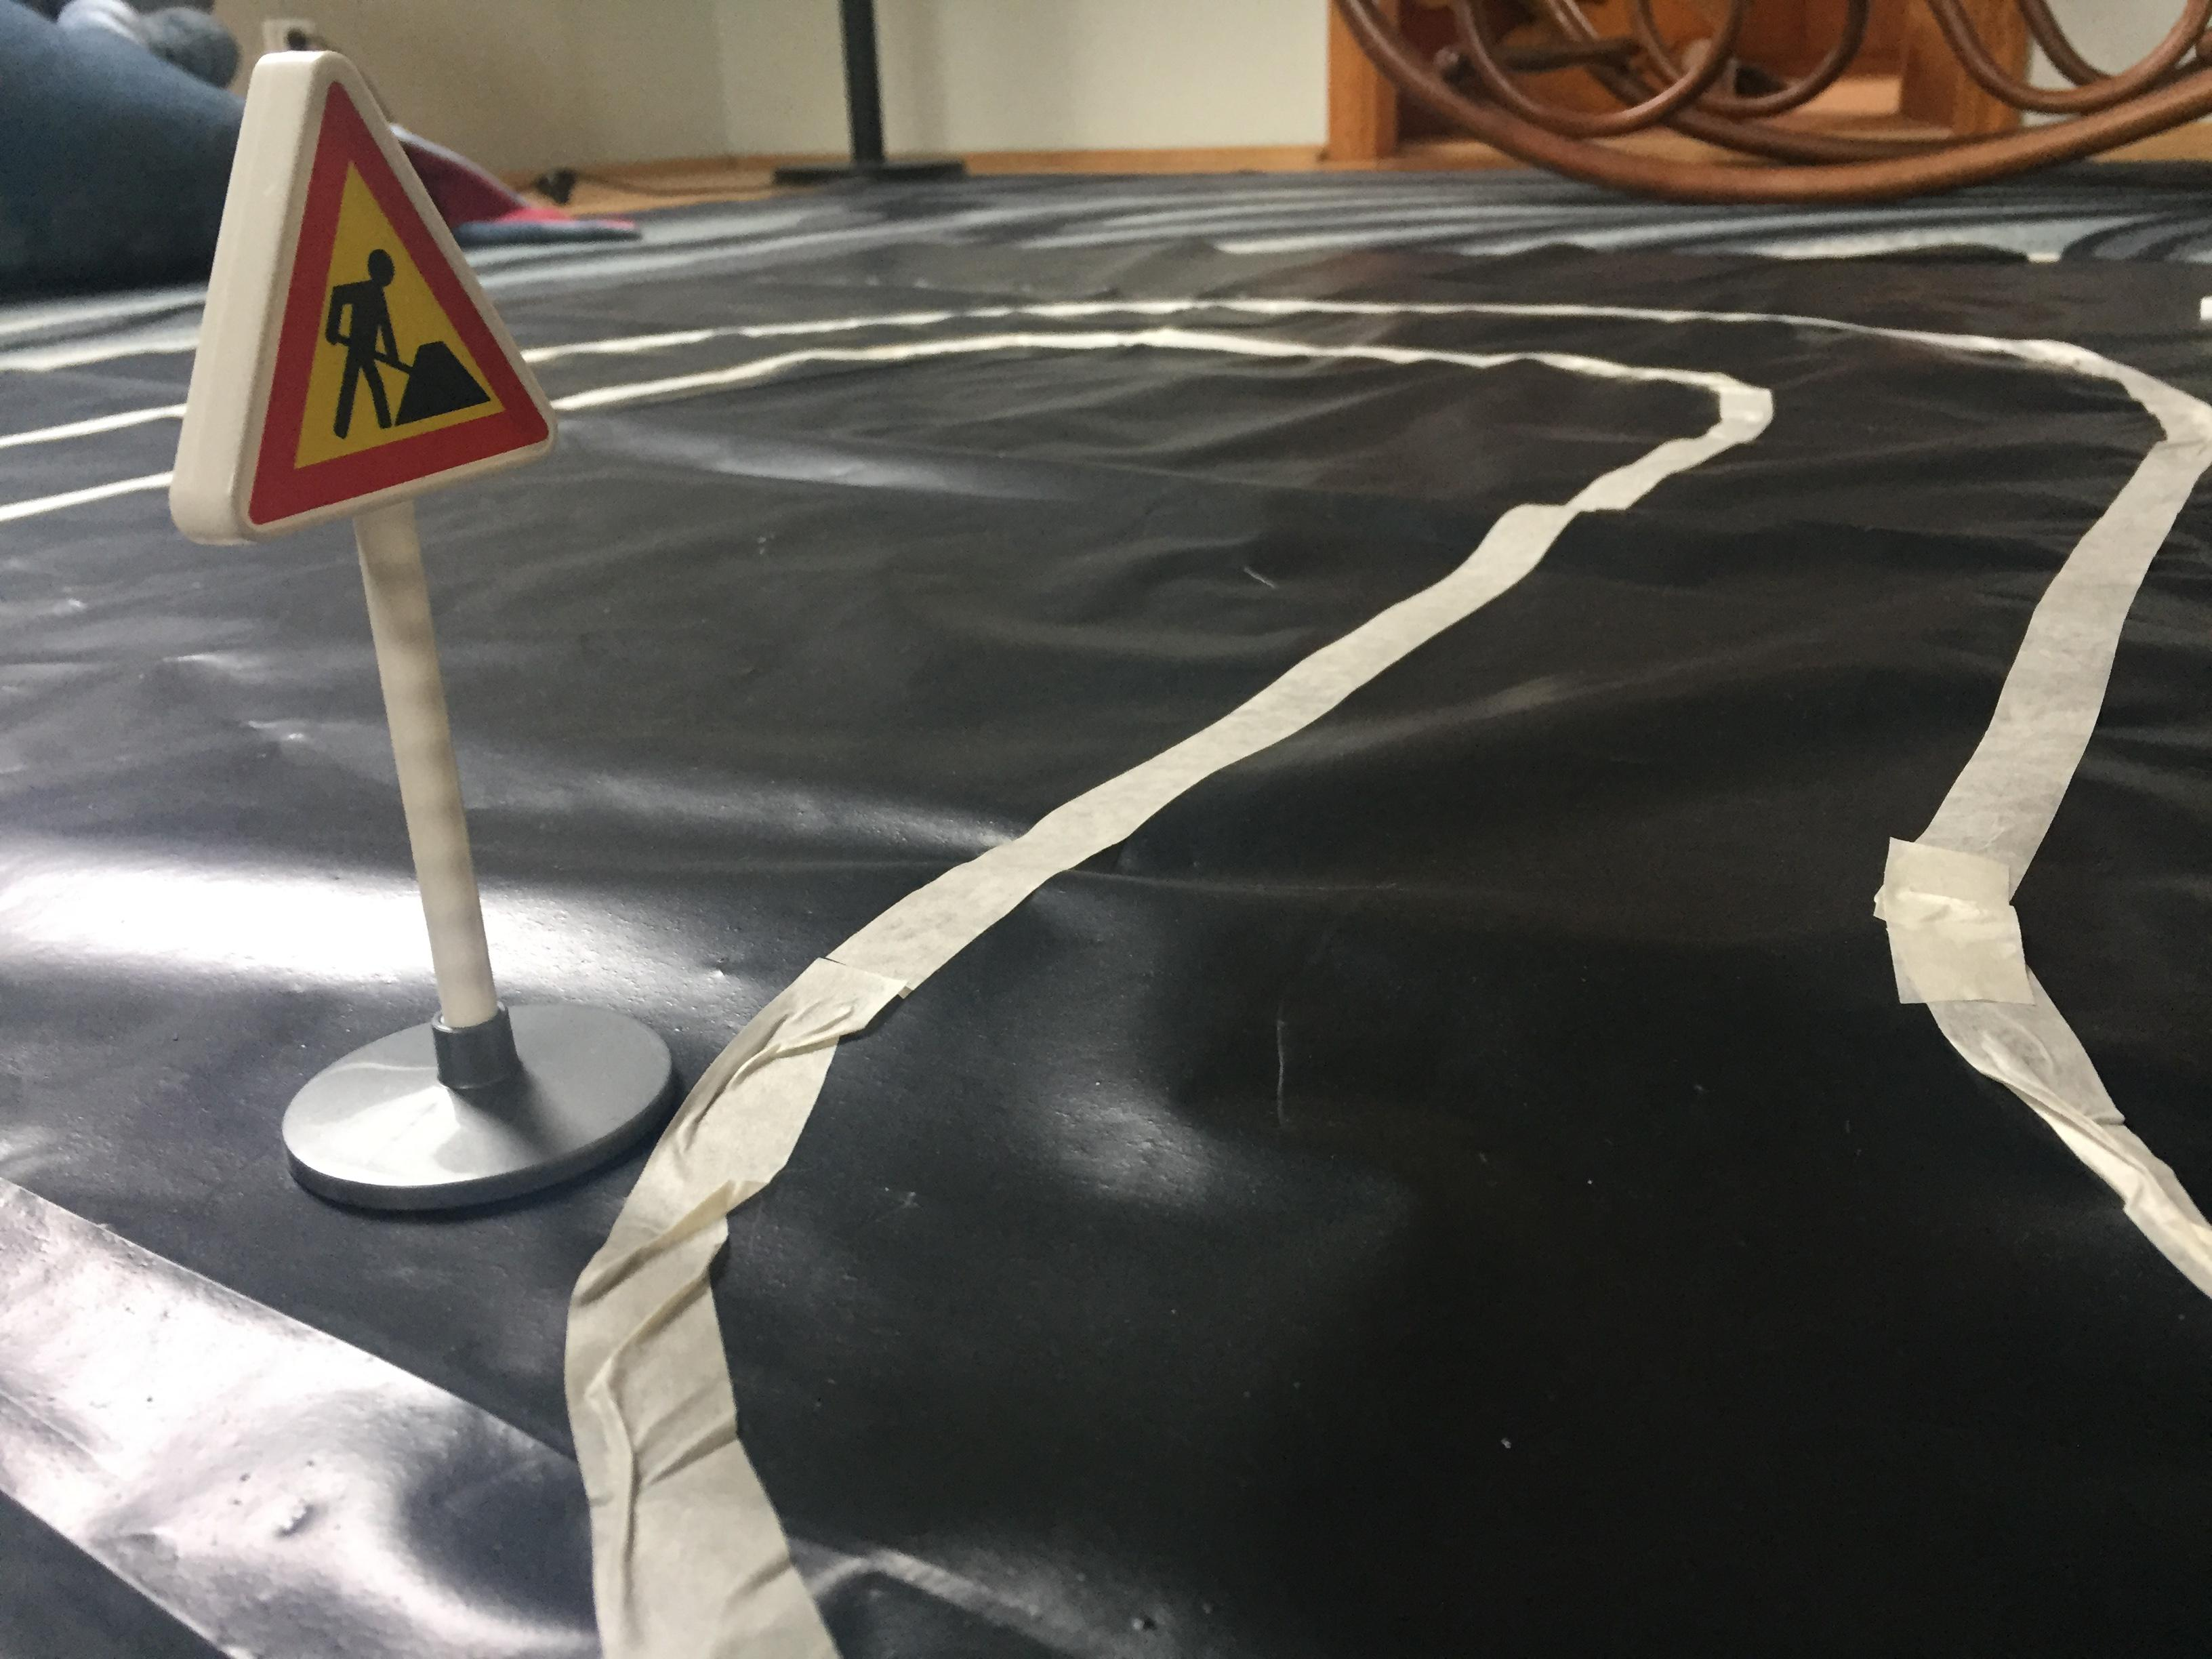work: (155, 33, 573, 563)
